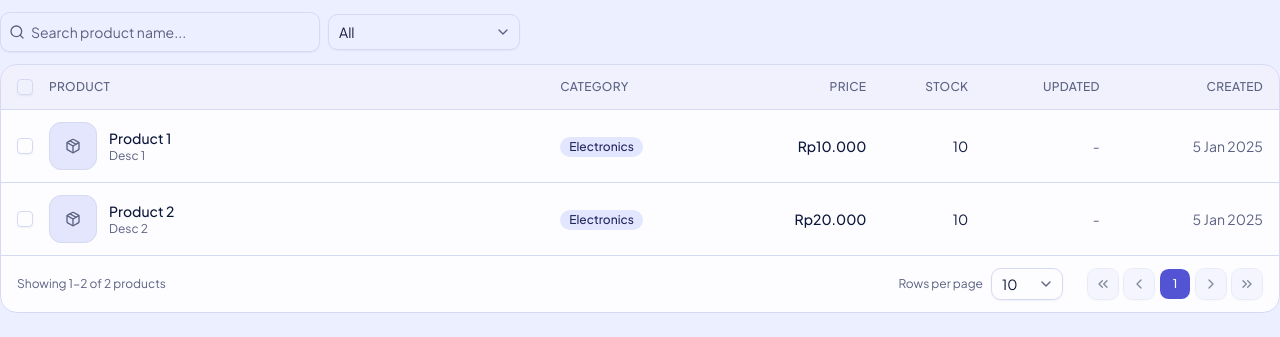
it: ProductView: daftar dan search › search tanpa hasil menampilkan no match
Type "zzz" into the field with placeholder "Search product name..." at (172, 32), box [25,14,319,50]
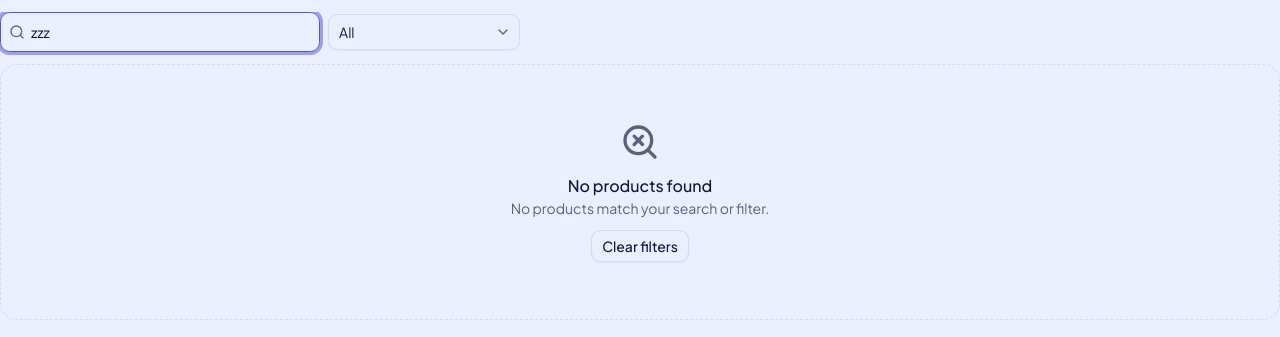
Result: the text "No products found" is shown at [568,175,712,196]
